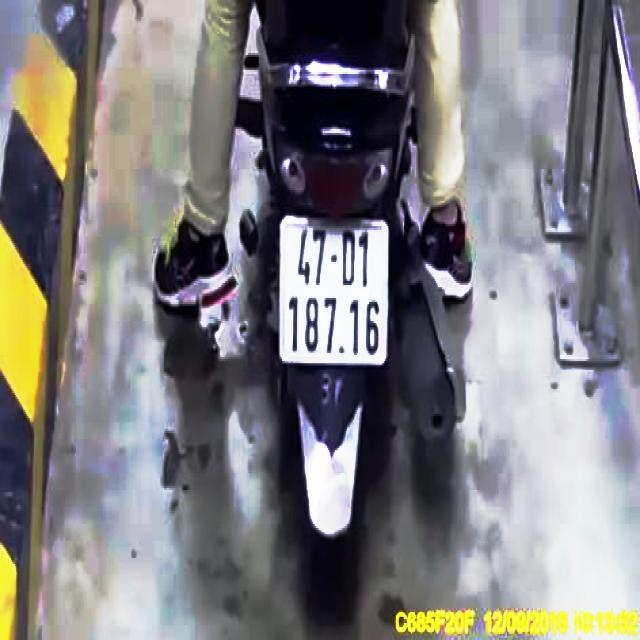license_plate: (281, 220, 390, 365)
